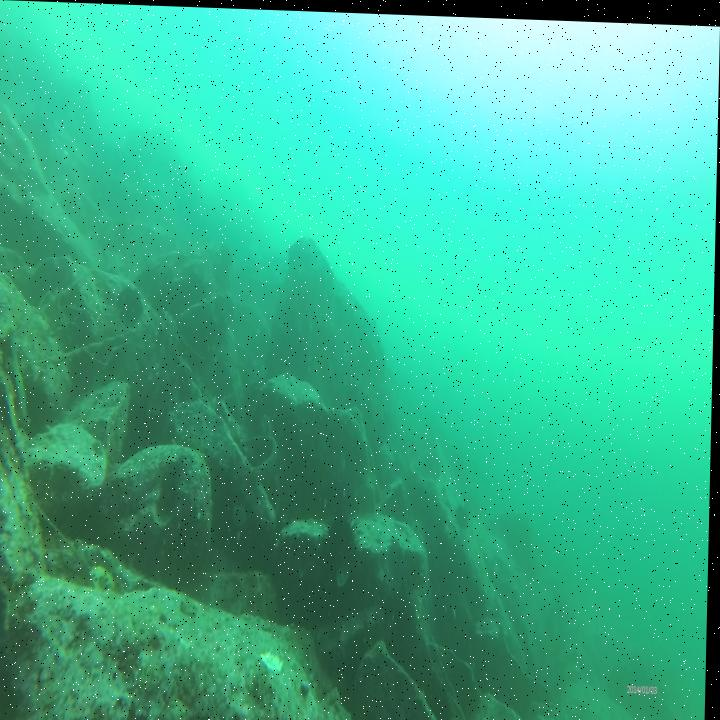echinus: (321, 503, 366, 572), (117, 277, 148, 330), (455, 493, 474, 528)
